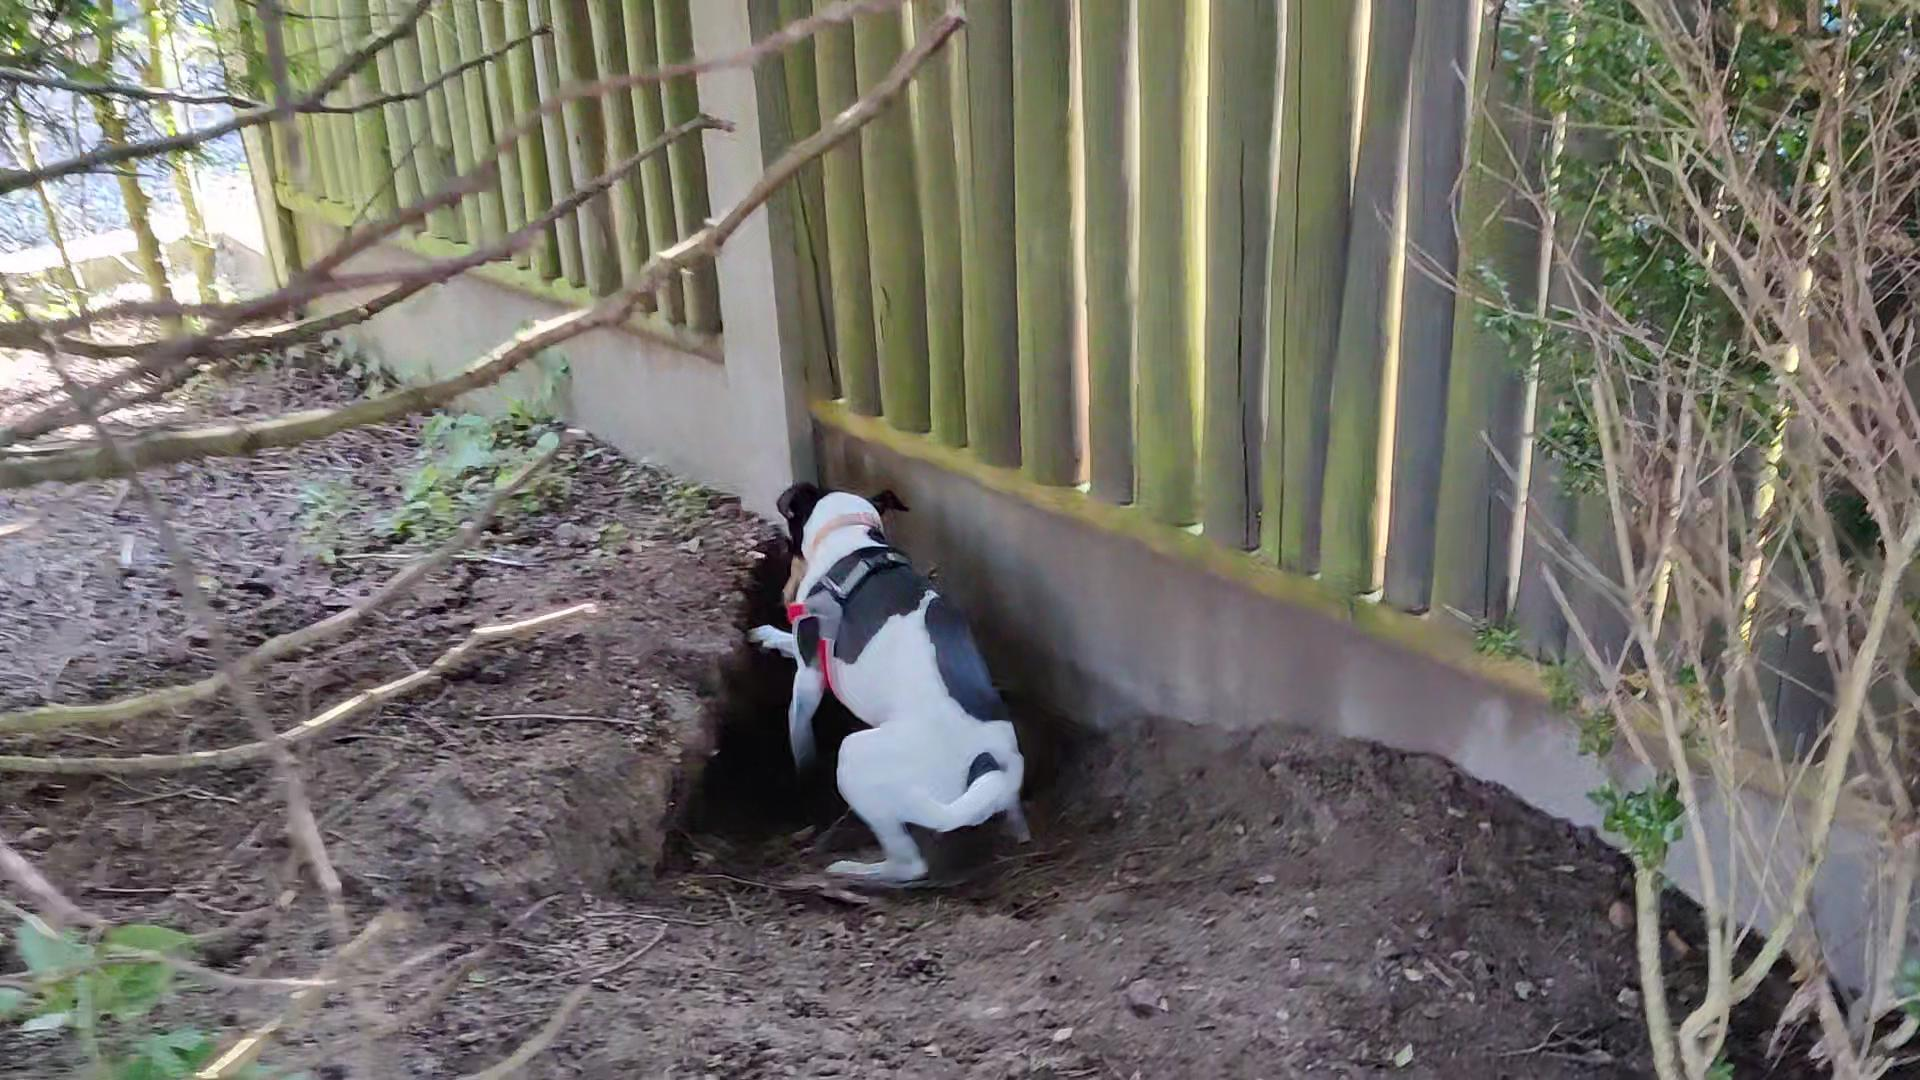Dog: (732, 451, 1062, 905)
